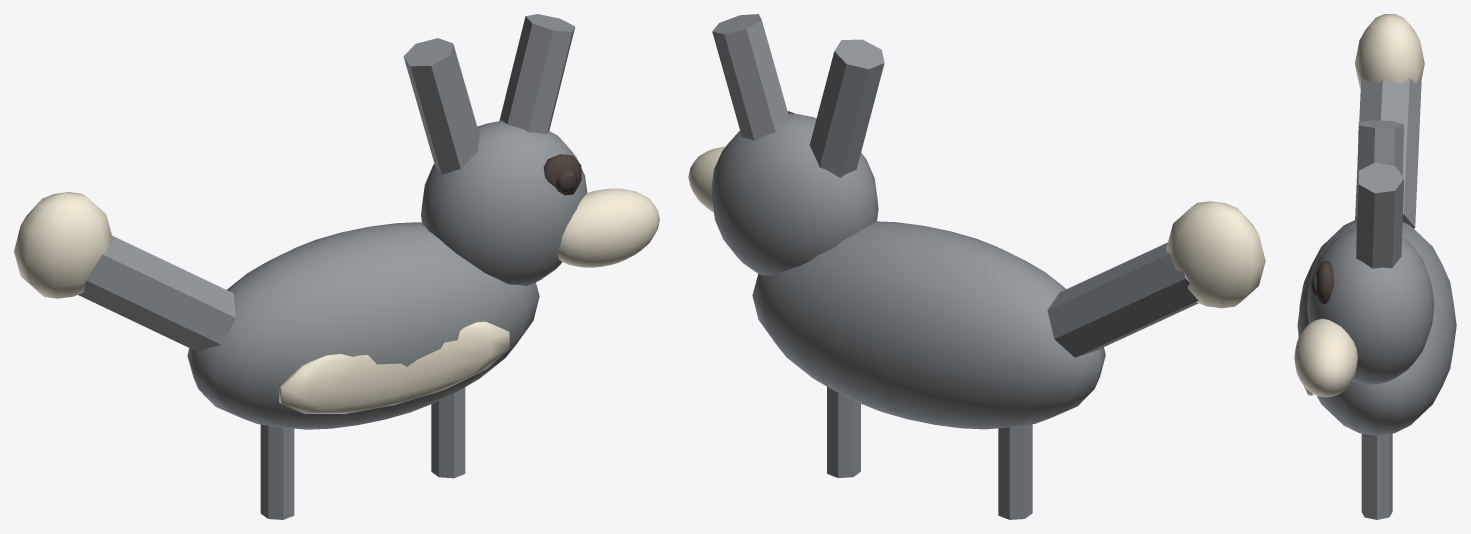
Rendered from fox_silver.glb.
3 renders of one model, left to right at view 1: azimuth 30°, elevation 25°; view 2: azimuth 150°, elevation 25°; view 3: azimuth 270°, elevation 25°, orthographic. The views are drawn at different scales.
Visible parts, largest first — view 1: fox_silver_root; view 2: fox_silver_root; view 3: fox_silver_root.
Part boxes in pixels (x1,y1,x2,y2): fox_silver_root: (14,14,659,519); fox_silver_root: (688,14,1265,519); fox_silver_root: (1294,14,1456,519).
Size of the model in its own units: 1.32 by 0.9 by 0.3422.
